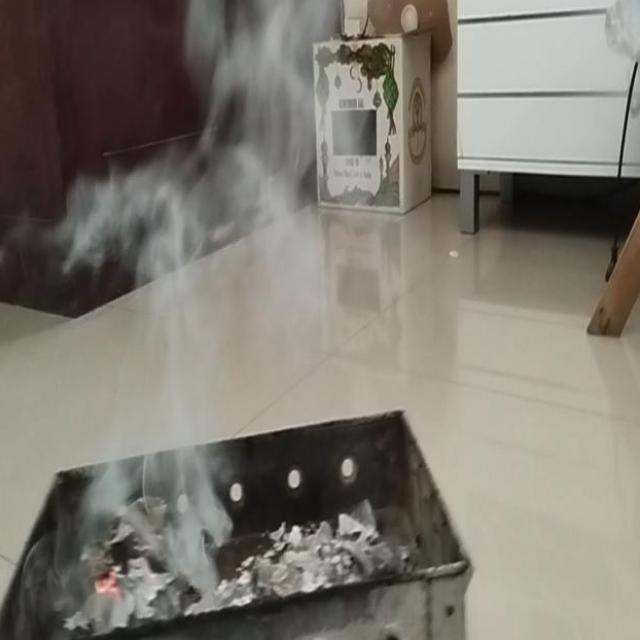fire: (64, 163, 226, 580), (208, 0, 348, 284)
